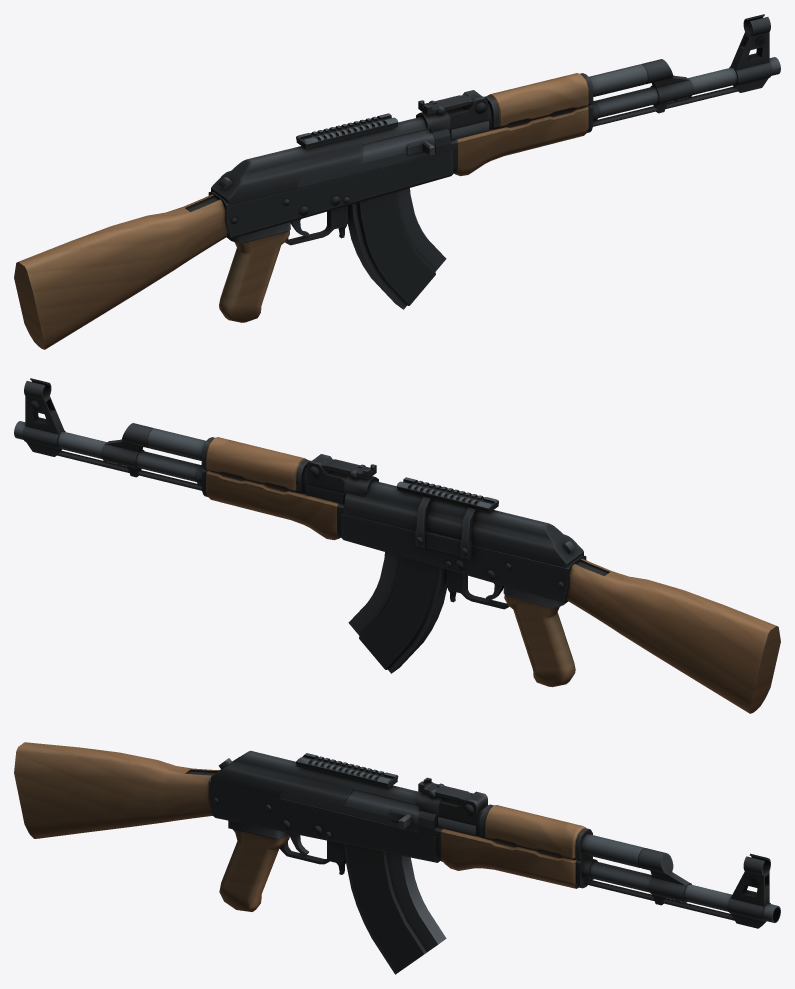
Rendered from weapon_2.obj.
The picture shows the model from 3 angles, top to bottom: view 1: azimuth 30°, elevation 25°; view 2: azimuth 150°, elevation 25°; view 3: azimuth 330°, elevation 25°; orthographic projection.
Parts seen in each view (by area): view 1: weapon_2; view 2: weapon_2; view 3: weapon_2.
Boxes of the visible parts, box(x1,y1,x2,y2) form: weapon_2: box(14, 14, 780, 349); weapon_2: box(14, 378, 780, 713); weapon_2: box(14, 742, 780, 974).
Size of the model in its own units: 3.04 by 0.776 by 0.1941.
Materials: 1 (1 with a texture image).
